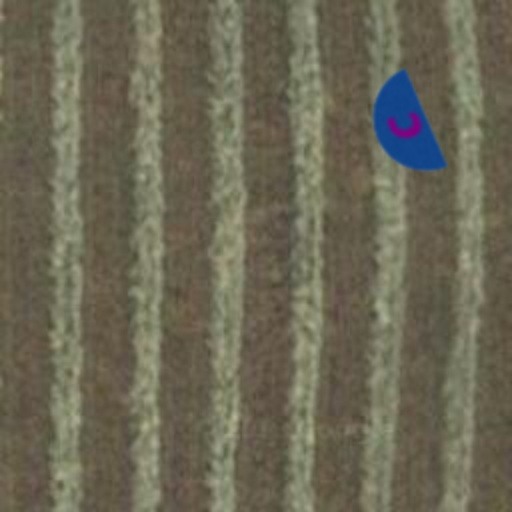semicircle: (330, 56, 474, 200)
